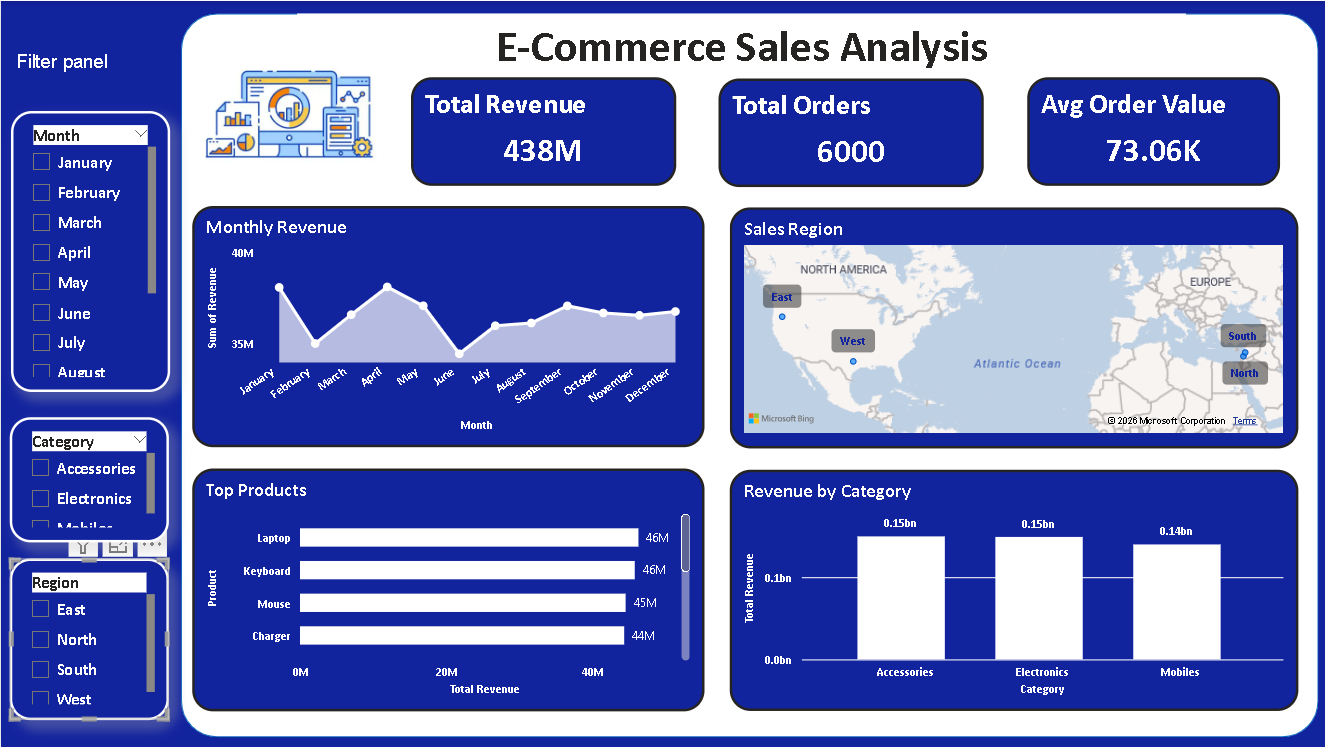

Layout of this report page (visuals, bound fields, positions):
{"tool":"powerbi","page":{"name":"Page 1","canvas":[1280,720],"ordinal":0},"visuals":[{"type":"shape","box":[173.7,12.1,1097.9,698.5],"z":0},{"type":"textbox","box":[285.4,12.3,857.6,61.7],"z":1000},{"type":"lineChart","title":"Monthly Revenue","fields":{"Y":["Sum(sales_data.Revenue)"],"Category":["sales_data.Order_Date.Variation.Date Hierarchy.Month"]},"box":[184.6,197.9,494.6,232.8],"z":1001},{"type":"barChart","title":"Top Products","fields":{"Category":["Cleaned_Sales_Data.Product"],"Y":["Cleaned_Sales_Data.Total Revenue"]},"box":[184.6,451.2,494.6,234],"z":1002},{"type":"columnChart","title":"Revenue by Category","fields":{"Category":["Cleaned_Sales_Data.Category"],"Y":["Cleaned_Sales_Data.Total Revenue"]},"box":[703.4,452.4,548.9,232.8],"z":1003},{"type":"map","title":"Sales Region","fields":{"Size":["Cleaned_Sales_Data.Total Revenue"],"Category":["Cleaned_Sales_Data.Region"]},"box":[703.4,199.1,548.9,232.8],"z":1004},{"type":"card","title":"Total Revenue","fields":{"Values":["Cleaned_Sales_Data.Total Revenue"]},"box":[395.7,73.6,255.8,105],"z":1005},{"type":"card","title":"Total Orders","fields":{"Values":["CountNonNull(Cleaned_Sales_Data.Order_ID)"]},"box":[692.5,74.8,255.8,105],"z":1006},{"type":"card","title":"Avg Order Value","fields":{"Values":["Cleaned_Sales_Data.Avg Order Value"]},"box":[990.5,73.6,243.7,105],"z":1007},{"type":"slicer","fields":{"Values":["sales_data.Region"]},"box":[8.4,538.1,153.2,155.6],"z":1008},{"type":"slicer","fields":{"Values":["Cleaned_Sales_Data.Category"]},"box":[8.4,401.7,153.2,120.6],"z":1009},{"type":"slicer","fields":{"Values":["sales_data.Order_Date.Variation.Date Hierarchy.Month"]},"box":[9.7,106.2,153.2,271.4],"z":1010},{"type":"textbox","box":[9.7,43.4,123.1,32.6],"z":1011},{"type":"image","box":[184.6,22.9,187,156.8],"z":1012}]}

Visuals, with their boxes in screenshot pixels (x1, y1, x2, y2), scaled from the page's 1280x720 canvas onto the 1325x747 screenshot:
shape: BBox(180, 13, 1316, 737)
textbox: BBox(295, 13, 1183, 77)
"Monthly Revenue" lineChart: BBox(191, 205, 703, 447)
"Top Products" barChart: BBox(191, 468, 703, 711)
"Revenue by Category" columnChart: BBox(728, 469, 1296, 711)
"Sales Region" map: BBox(728, 207, 1296, 448)
"Total Revenue" card: BBox(410, 76, 674, 185)
"Total Orders" card: BBox(717, 78, 982, 187)
"Avg Order Value" card: BBox(1025, 76, 1278, 185)
slicer - sales_data.Region: BBox(9, 558, 167, 720)
slicer - Cleaned_Sales_Data.Category: BBox(9, 417, 167, 542)
slicer - sales_data.Order_Date.Variation.Date Hierarchy.Month: BBox(10, 110, 169, 392)
textbox: BBox(10, 45, 137, 79)
image: BBox(191, 24, 385, 186)
